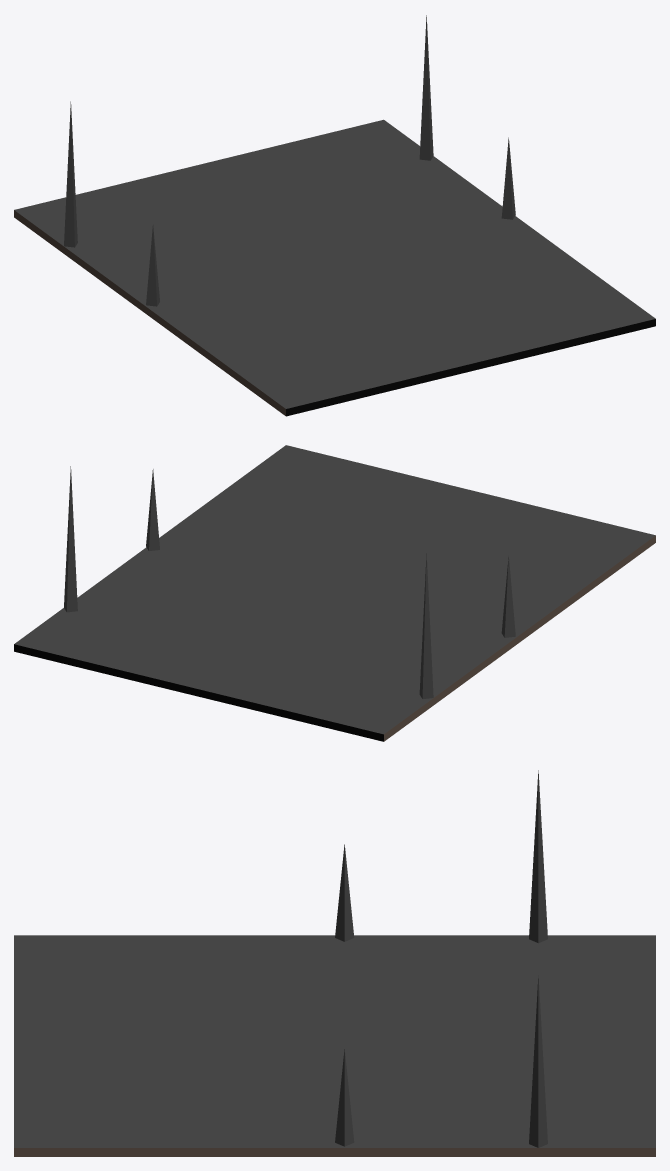
The model's file is suspension_start_bottom.glb.
3 renders of one model, top to bottom at view 1: azimuth 30°, elevation 25°; view 2: azimuth 150°, elevation 25°; view 3: azimuth 270°, elevation 25°, orthographic. The views are drawn at different scales.
Visible parts, largest first — view 1: Maxis-3d2-mesh-58-BR81; view 2: Maxis-3d2-mesh-58-BR81; view 3: Maxis-3d2-mesh-58-BR81.
Part boxes in pixels (<box>): Maxis-3d2-mesh-58-BR81: <box>14,15,655,416</box>; Maxis-3d2-mesh-58-BR81: <box>14,445,655,741</box>; Maxis-3d2-mesh-58-BR81: <box>14,770,655,1156</box>.
Bounding box in the file's own units: 13 × 5.06 × 16.56.
